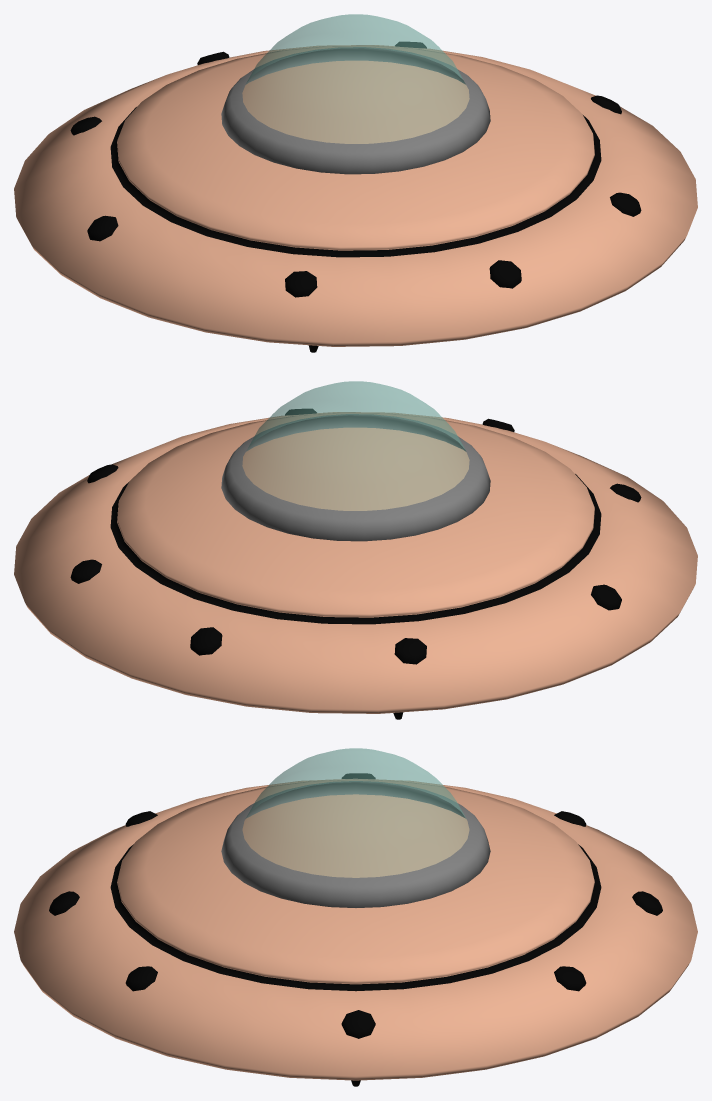
The model's file is UFO 1.fbx.
3 views of the same model, one above another, from view 1: azimuth 30°, elevation 25°; view 2: azimuth 150°, elevation 25°; view 3: azimuth 270°, elevation 25° (orthographic).
Parts seen in each view (by area): view 1: Cylinder; view 2: Cylinder; view 3: Cylinder.
Part boxes in pixels (x1,y1,x2,y2): Cylinder: (14,14,697,352); Cylinder: (14,381,697,719); Cylinder: (14,748,697,1086).
Size of the model in its own units: 556 by 216 by 556.
